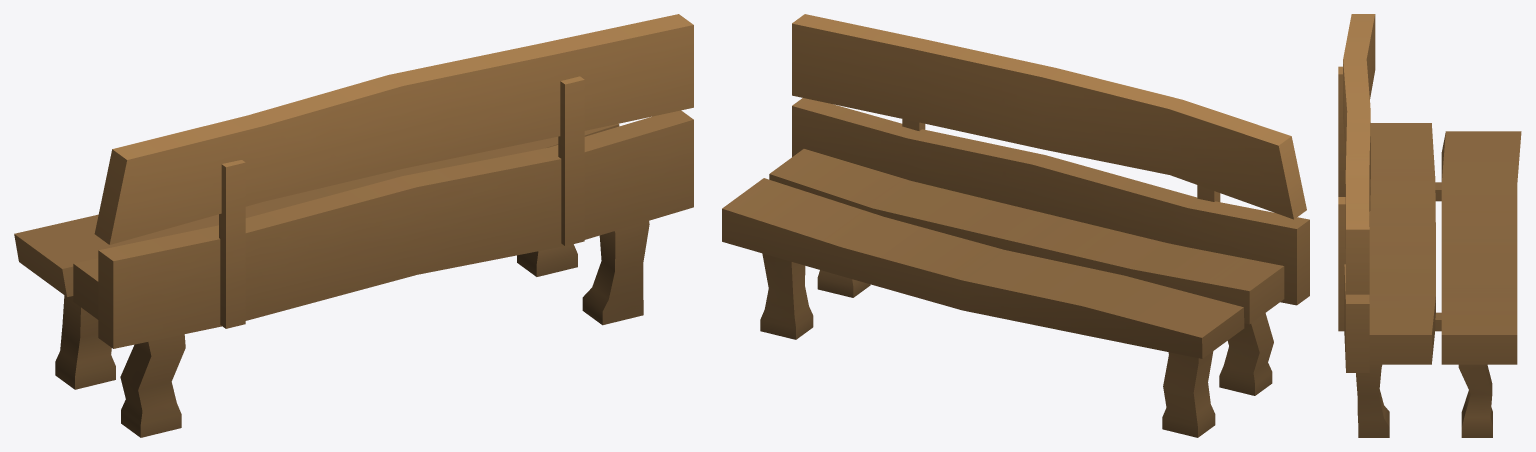
The model's file is Bench.fbx.
The picture shows the model from 3 angles, left to right: view 1: azimuth 30°, elevation 25°; view 2: azimuth 150°, elevation 25°; view 3: azimuth 270°, elevation 25°; orthographic projection. The views are drawn at different scales.
Visible parts, largest first — view 1: Cube; view 2: Cube; view 3: Cube.
Boxes of the visible parts, <box> form: Cube: <box>14,14,693,437</box>; Cube: <box>722,14,1309,437</box>; Cube: <box>1338,14,1521,437</box>.
Bounding box in the file's own units: 229 × 111 × 79.38.
